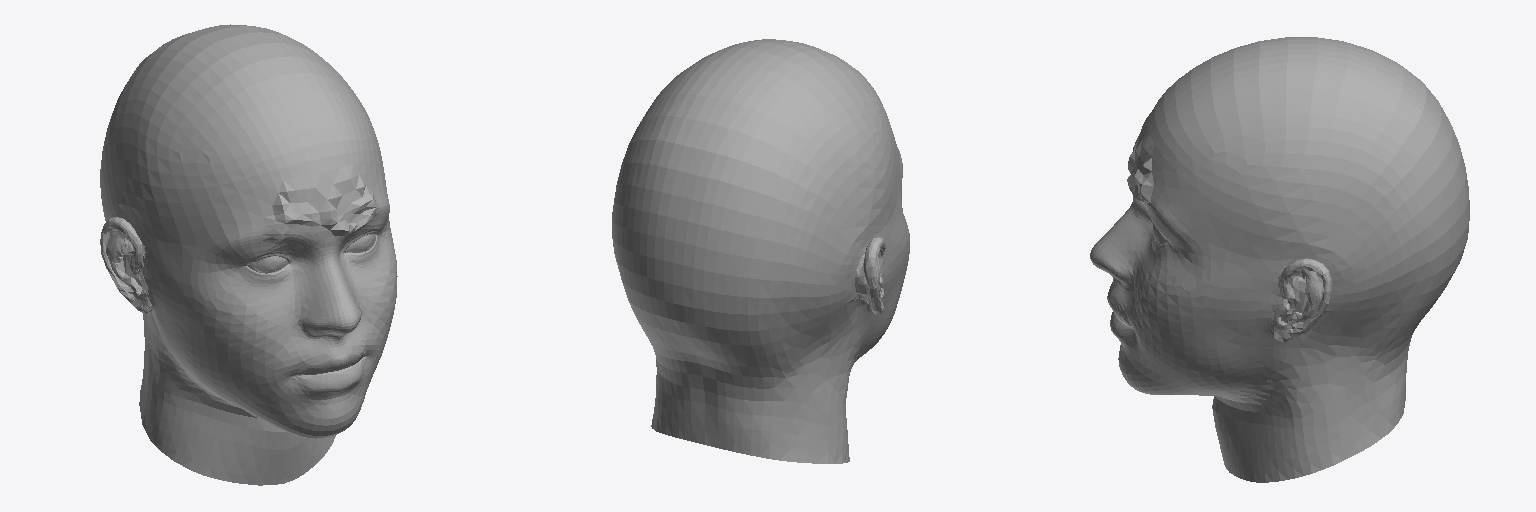
File: Girl2.obj
The picture shows the model from 3 angles: view 1: azimuth 30°, elevation 25°; view 2: azimuth 150°, elevation 25°; view 3: azimuth 270°, elevation 25°; orthographic projection.
Visible parts, largest first — view 1: HeadHires; view 2: HeadHires; view 3: HeadHires.
Part boxes in pixels (x1,y1,x2,y2): HeadHires: (100, 24, 397, 485); HeadHires: (612, 39, 909, 463); HeadHires: (1090, 37, 1469, 482).
Bounding box in the file's own units: 189 × 283 × 235.